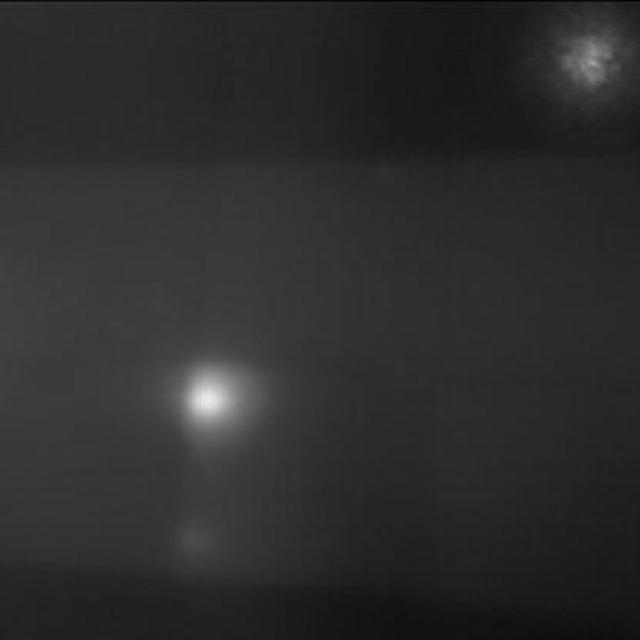hotspot: (179, 360, 246, 431)
